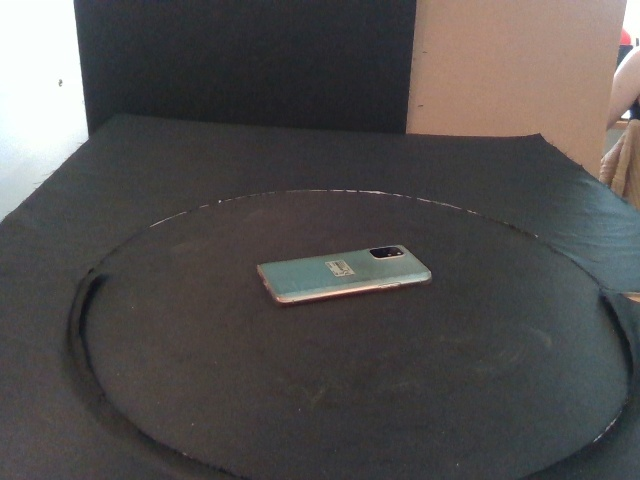phone: (256, 244, 432, 308)
